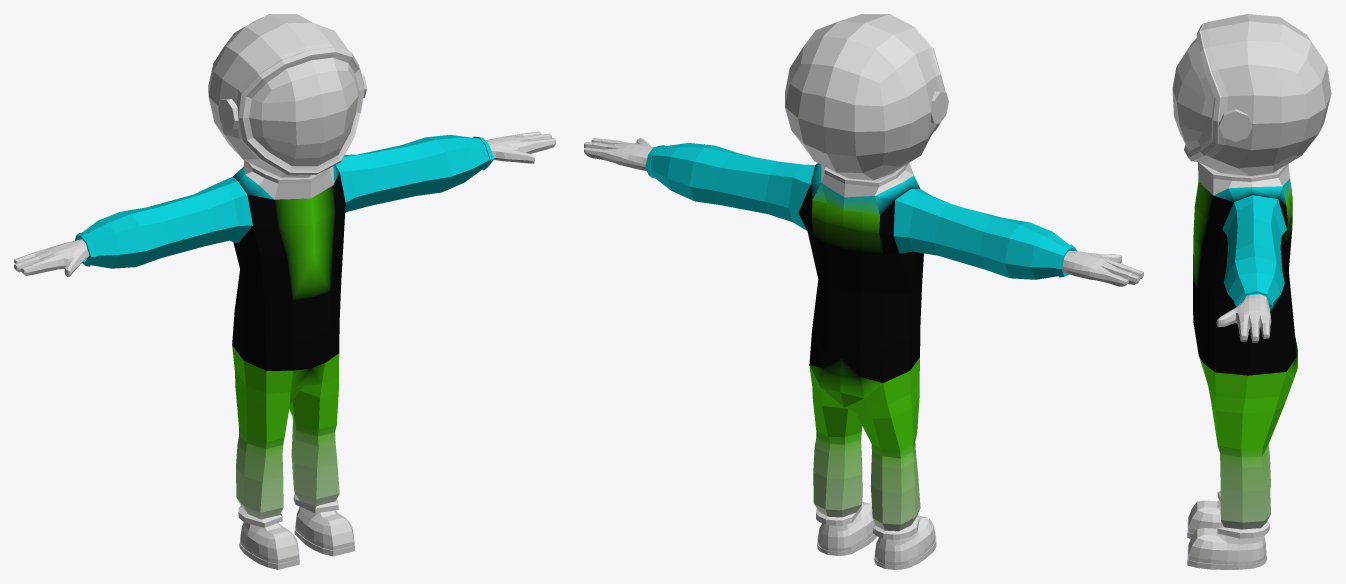
File: MrSpaceman.fbx
3 views of the same model, side by side, from view 1: azimuth 30°, elevation 25°; view 2: azimuth 150°, elevation 25°; view 3: azimuth 270°, elevation 25° (orthographic). The views are drawn at different scales.
Visible parts, largest first — view 1: Spaceman1; view 2: Spaceman1; view 3: Spaceman1.
Part boxes in pixels (left/top/right/bottom): Spaceman1: left=14, top=14, right=555, bottom=569; Spaceman1: left=584, top=14, right=1143, bottom=569; Spaceman1: left=1172, top=14, right=1331, bottom=569.
Size of the model in its own units: 862 by 791 by 217.
